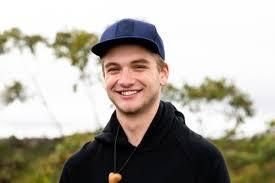cap: (87, 13, 179, 64)
